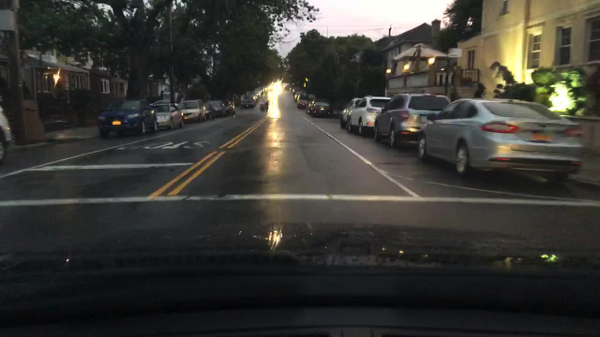car: (415, 97, 586, 185), (373, 92, 451, 149), (96, 96, 159, 139), (346, 95, 391, 139), (39, 88, 84, 126), (151, 104, 185, 131), (0, 109, 14, 169), (338, 97, 363, 129), (178, 99, 209, 124), (306, 100, 333, 119), (207, 101, 227, 119), (221, 98, 237, 117), (239, 95, 257, 109), (296, 96, 311, 109), (293, 91, 308, 103), (290, 85, 302, 95), (250, 90, 263, 99), (255, 87, 265, 96), (284, 83, 295, 91), (265, 83, 272, 91), (260, 86, 267, 94)
